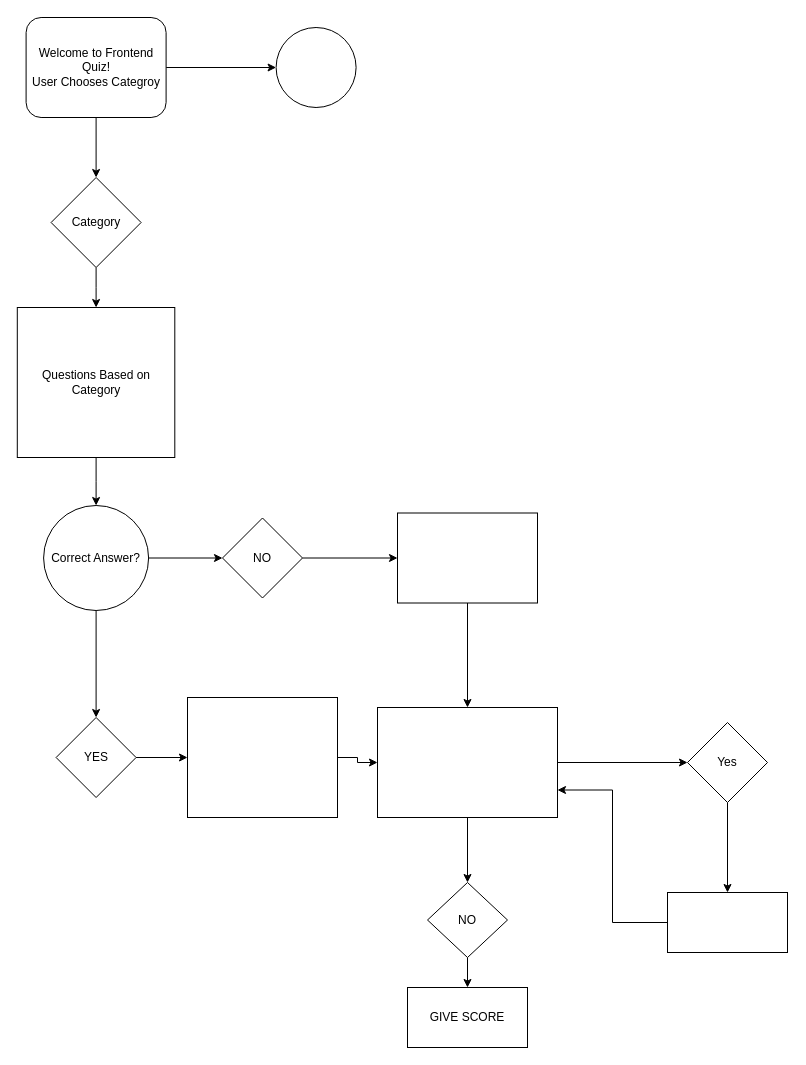
This 806x1065 diagram has some shape labels left out. Each missing label, with the centre of its shape:
Are there more questions?: [467,762]
Log as CORRECT highlight the correct answer in Green: [262,757]
Log as INCORRECT highlight the wrong answer in RED: [467,557]
Next Question: [727,922]
TOGGLE DARK MODE: [315,67]
